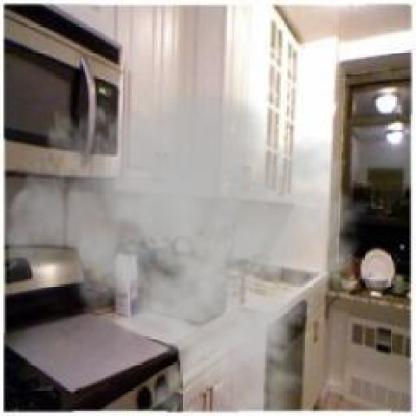Smoke: (6, 57, 372, 411)
